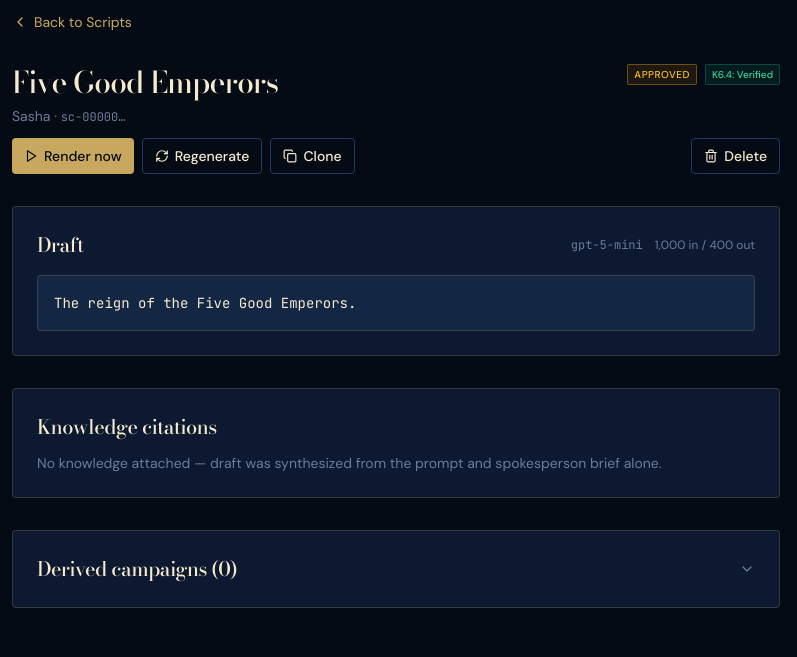
it: ScriptDetailRoute BC4 — Derived campaigns panel › empty state shows 'Not yet used' text after expanding
Expand the collapsed panel
Click the button with test id "derived-campaigns-toggle" at (128, 569), box [37,555,755,583]
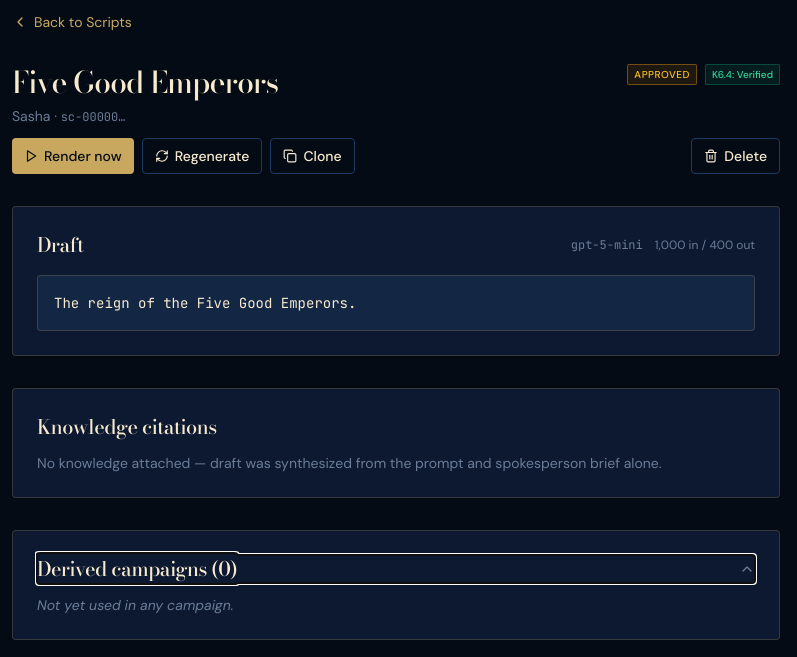
expect the text with test id "derived-campaigns-empty" reads "Not yet used in any campaign.": met, box [37,596,234,614]
